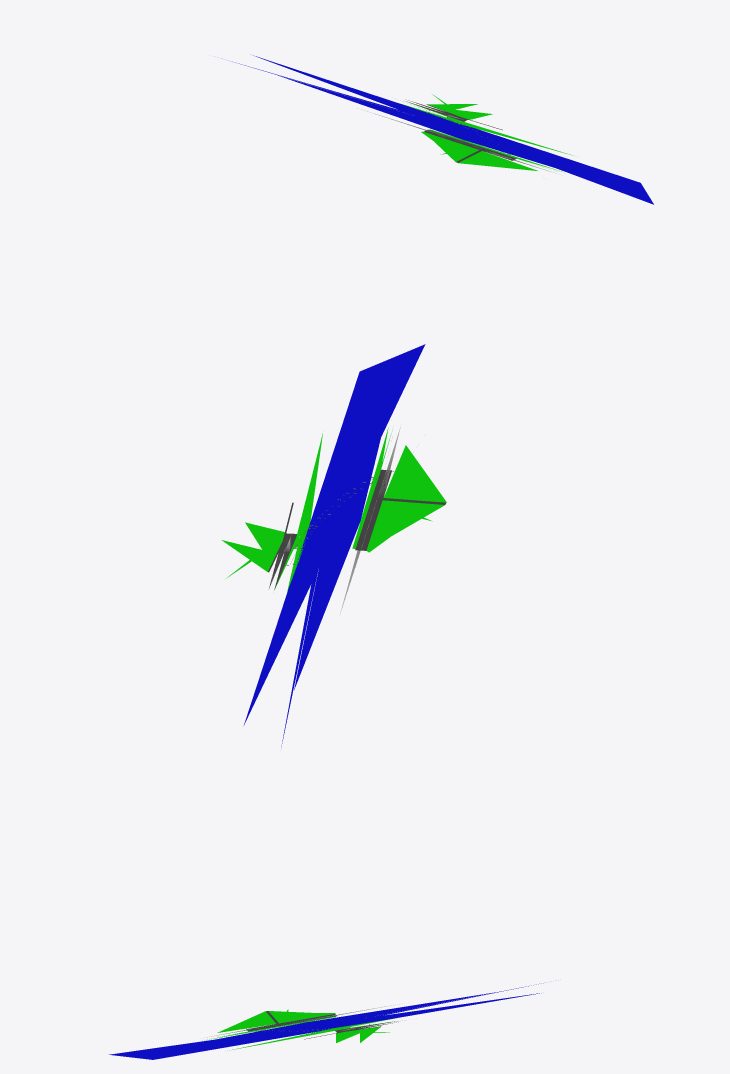
3 views of the same model, one above another, from view 1: azimuth 30°, elevation 25°; view 2: azimuth 150°, elevation 25°; view 3: azimuth 270°, elevation 25° (orthographic). The views are drawn at different scales.
Bounding box in the file's own units: 368 × 3.2 × 880.
